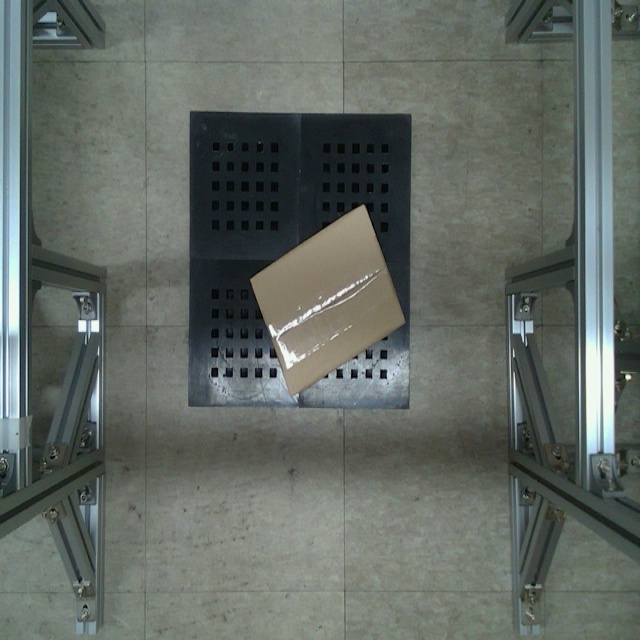box: (252, 196, 407, 396)
pallet: (186, 107, 414, 412)
